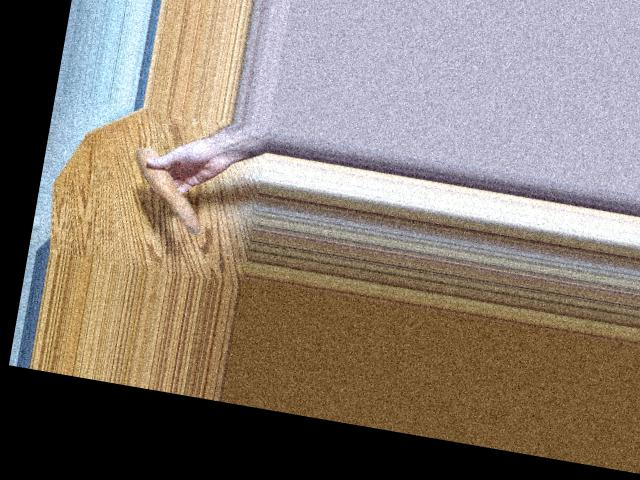sweet_potato: (126, 145, 211, 233)
